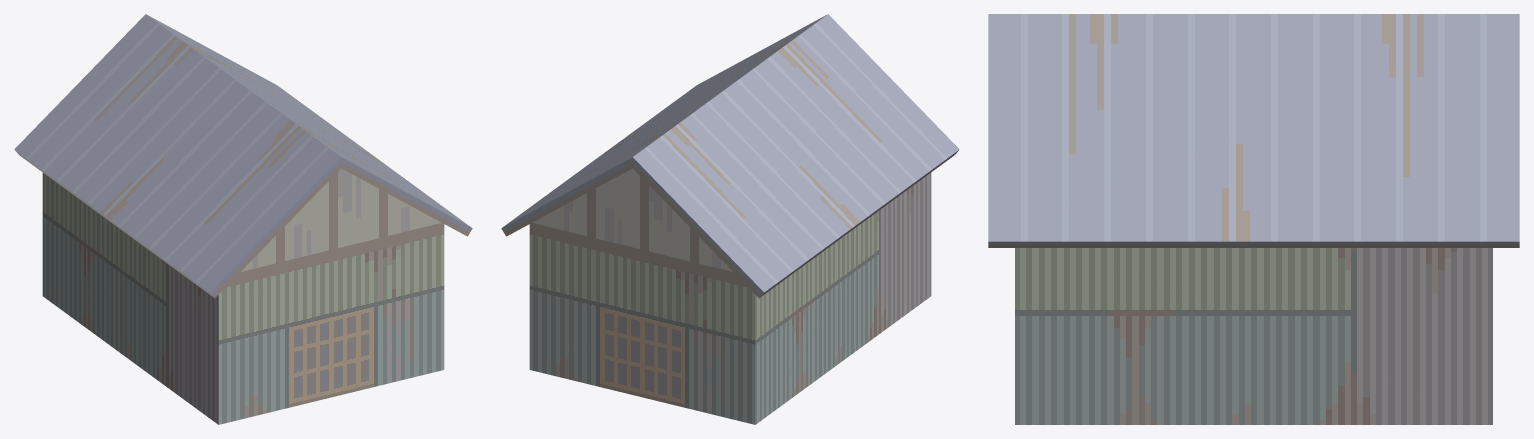
The model's file is 00ca_Barn.glb.
3 views of the same model, side by side, from view 1: azimuth 30°, elevation 25°; view 2: azimuth 150°, elevation 25°; view 3: azimuth 270°, elevation 25° (orthographic). The views are drawn at different scales.
Visible parts, largest first — view 1: part_0; view 2: part_0; view 3: part_0.
Boxes of the visible parts, box(x1,y1,x2,y2) form: part_0: box(14, 14, 472, 424); part_0: box(501, 14, 959, 424); part_0: box(988, 14, 1519, 424).
Bounding box in the file's own units: 4.66 × 4.19 × 6.
Materials: 1 (1 with a texture image).
